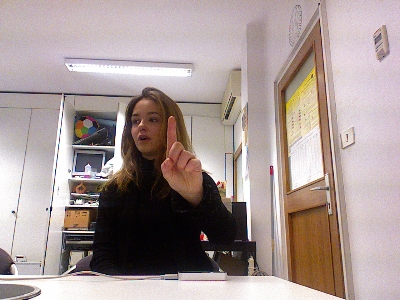食指: (160, 115, 203, 196)
